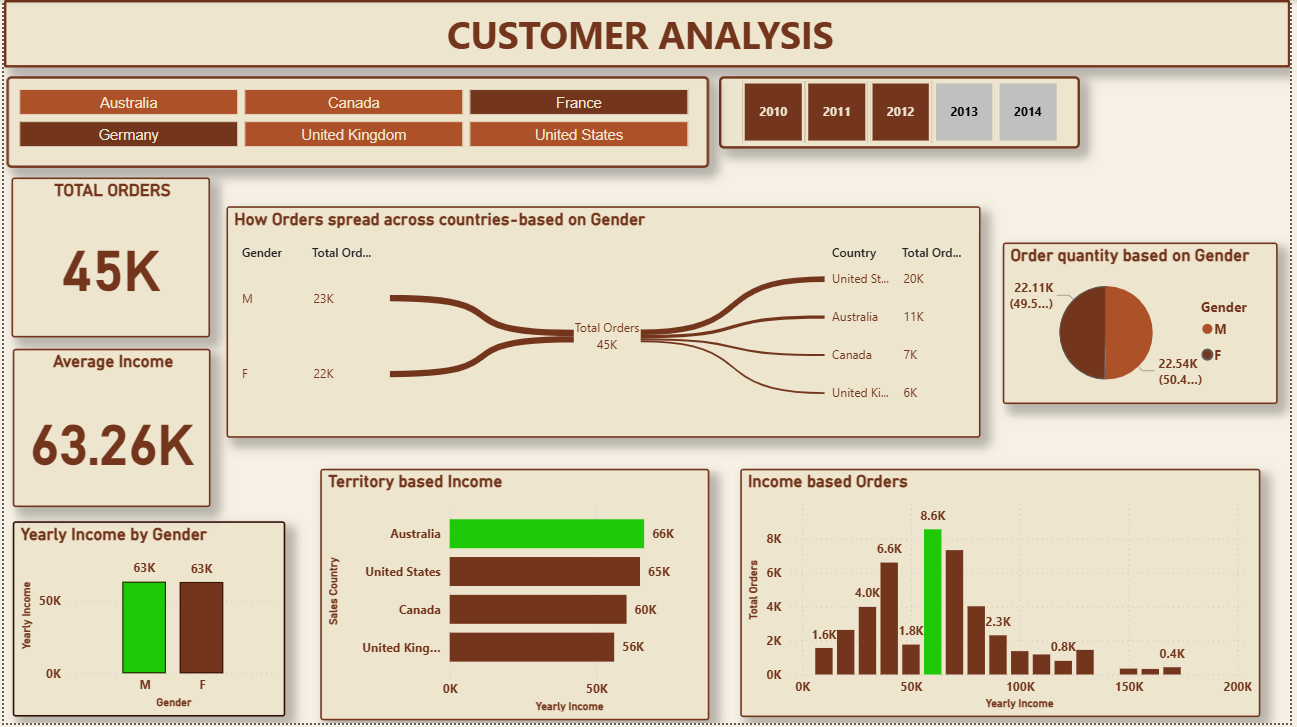

What the dashboard file says about the page in this screenshot:
{"tool":"powerbi","page":{"name":"CUSTOMER ANALYSIS","canvas":[1280,720],"ordinal":0},"visuals":[{"type":"pieChart","title":"Order quantity based on Gender","fields":{"Category":["vw_ftinternetsales.gender"],"Y":["CountNonNull(vw_ftinternetsales.orderquantity)"]},"box":[993.9,241.3,273.7,160.5],"z":0},{"type":"textbox","box":[0,0,1280.3,67.2],"z":1000},{"type":"slicer","title":"YEARS","fields":{"Values":["vw_ftinternetsales.calendaryear"]},"box":[711.5,75.9,359.5,72.1],"z":2000},{"type":"ChicletSlicer1448559807354","title":"COUNTRIES","fields":{"Category":["vw_ftinternetsales.salesterritorycountry"]},"box":[2.5,75.9,699.1,90.8],"z":3000},{"type":"clusteredColumnChart","title":"Yearly Income by Gender","fields":{"Category":["vw_ftinternetsales.gender"],"Y":["Avg(vw_ftinternetsales.yearlyincome)"]},"box":[8.7,518.7,271.2,194.1],"z":4000},{"type":"card","title":"TOTAL ORDERS","fields":{"Values":["DimProductCategory.total_orders"]},"box":[7.5,176.6,197.8,159.2],"z":5000},{"type":"clusteredColumnChart","title":"Income based Orders","fields":{"Category":["vw_ftinternetsales.yearlyincome"],"Y":["DimProductCategory.total_orders"]},"box":[732.7,466.5,517.5,247.5],"z":6000},{"type":"card","title":"Average Income","fields":{"Values":["measures (3).Income"]},"box":[8.7,347.1,196.5,158],"z":7000},{"type":"clusteredBarChart","title":"Territory based Income","fields":{"Category":["vw_ftinternetsales.salesterritorycountry"],"Y":["measures (3).Income"]},"box":[314.7,466.5,386.9,250],"z":8000},{"type":"BowtieChart1465021618681","title":"How Orders spread across countries-based on Gender","fields":{"Value":["DimProductCategory.total_orders"],"Destination":["vw_ftinternetsales.gender"],"Source":["vw_ftinternetsales.salesterritorycountry"]},"box":[221.4,205.3,750.1,230.1],"z":8001}]}

Visuals, with their boxes in screenshot pixels (x1, y1, x2, y2), scaled from the page's 1280x720 canvas onto the 1297x727 screenshot:
"Order quantity based on Gender" pieChart: [left=1007, top=244, right=1284, bottom=406]
textbox: [left=0, top=0, right=1296, bottom=68]
"YEARS" slicer: [left=721, top=77, right=1085, bottom=149]
"COUNTRIES" ChicletSlicer1448559807354: [left=3, top=77, right=711, bottom=168]
"Yearly Income by Gender" clusteredColumnChart: [left=9, top=524, right=284, bottom=720]
"TOTAL ORDERS" card: [left=8, top=178, right=208, bottom=339]
"Income based Orders" clusteredColumnChart: [left=742, top=471, right=1267, bottom=721]
"Average Income" card: [left=9, top=350, right=208, bottom=510]
"Territory based Income" clusteredBarChart: [left=319, top=471, right=711, bottom=723]
"How Orders spread across countries-based on Gender" BowtieChart1465021618681: [left=224, top=207, right=984, bottom=440]
